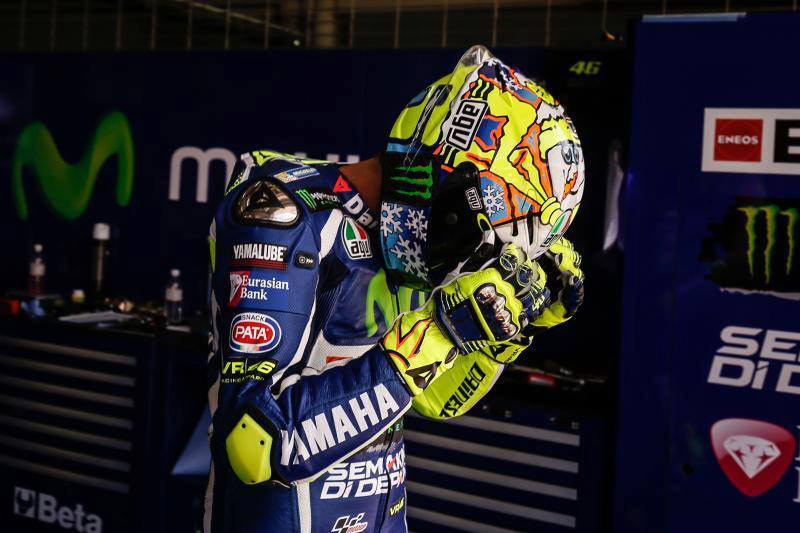helmet: (379, 45, 586, 291)
